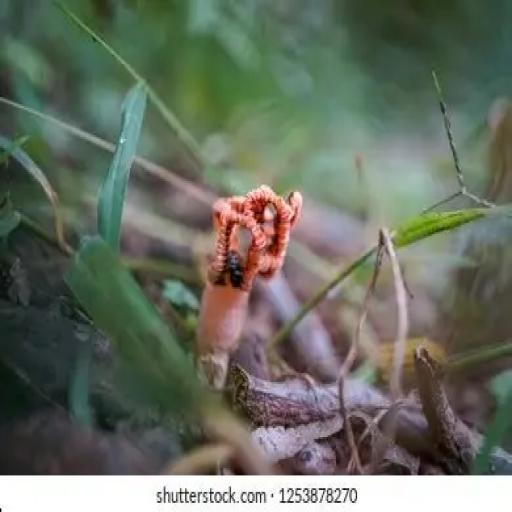mushroom: (195, 180, 299, 387)
